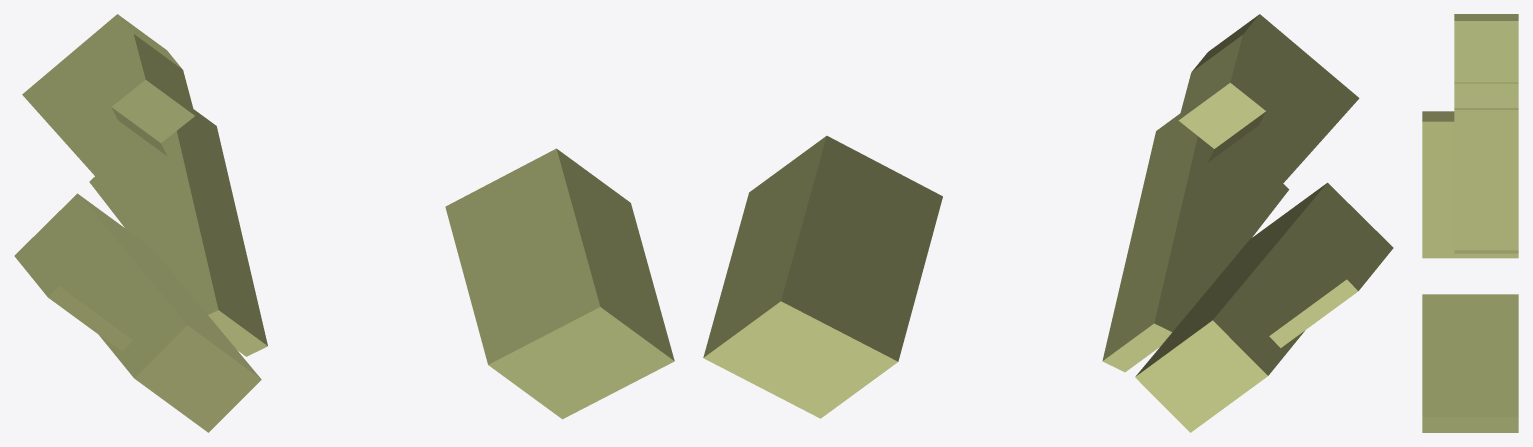
3 views of the same model, side by side, from view 1: azimuth 30°, elevation 25°; view 2: azimuth 150°, elevation 25°; view 3: azimuth 270°, elevation 25° (orthographic). The views are drawn at different scales.
Parts seen in each view (by area): view 1: 0_1_2_0_3_3_3_0_1; view 2: 0_1_2_0_3_3_3_0_1; view 3: 0_1_2_0_3_3_3_0_1.
Boxes of the visible parts, x1,y1,x2,y2 form: 0_1_2_0_3_3_3_0_1: [14, 14, 674, 432]; 0_1_2_0_3_3_3_0_1: [703, 14, 1393, 432]; 0_1_2_0_3_3_3_0_1: [1422, 14, 1518, 432].
Bounding box in the file's own units: 40.94 × 29.46 × 9.
